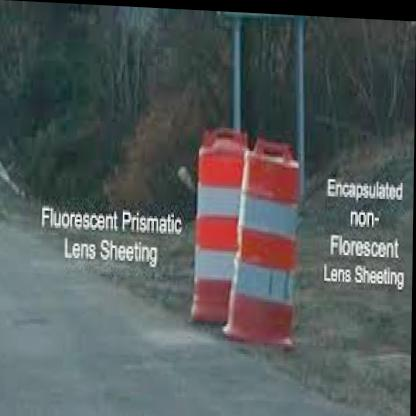obstacle: (232, 133, 301, 351), (181, 124, 240, 334)
